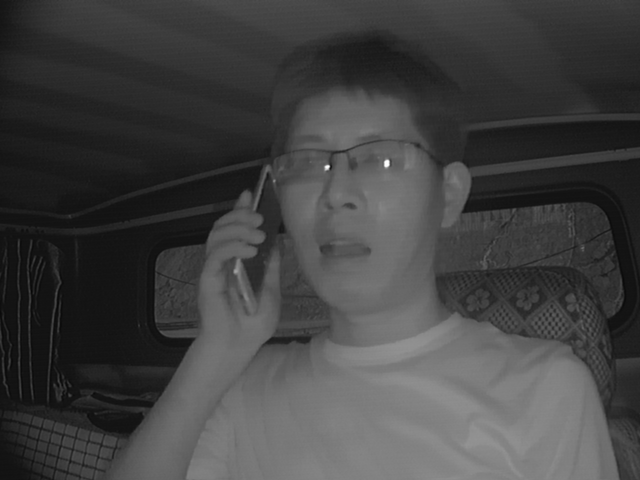hand: (191, 189, 291, 344)
